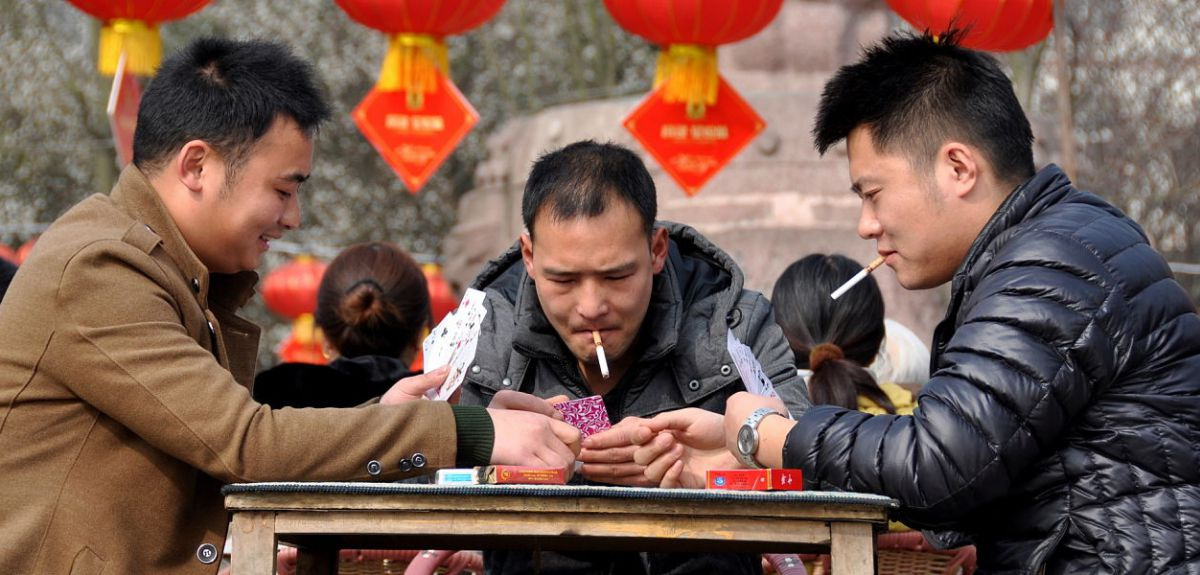cigarette: (826, 253, 897, 302), (587, 327, 619, 382)
